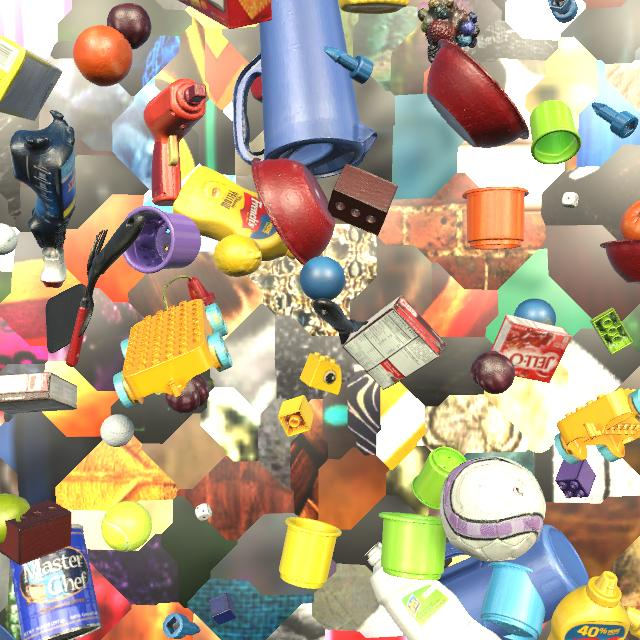ycb_002_master_chef_can: (9, 523, 103, 640)
ycb_003_cracker_box: (178, 0, 272, 29)
ycb_004_sugar_box: (0, 35, 62, 121)
ycb_006_mustard_bottle: (172, 166, 295, 261), (547, 571, 630, 640), (339, 0, 409, 14), (625, 606, 640, 640)
ycb_008_pudding_box: (342, 295, 447, 390), (0, 372, 78, 414)
ycb_009_gelatin_box: (490, 314, 572, 383)
ycb_014_lemon: (214, 234, 262, 277)
ycb_016_pear: (0, 494, 30, 545)
ycb_017_orange: (73, 25, 133, 87), (620, 200, 640, 240)
ycb_018_plum: (107, 3, 151, 50), (470, 351, 515, 394), (165, 375, 210, 414)
